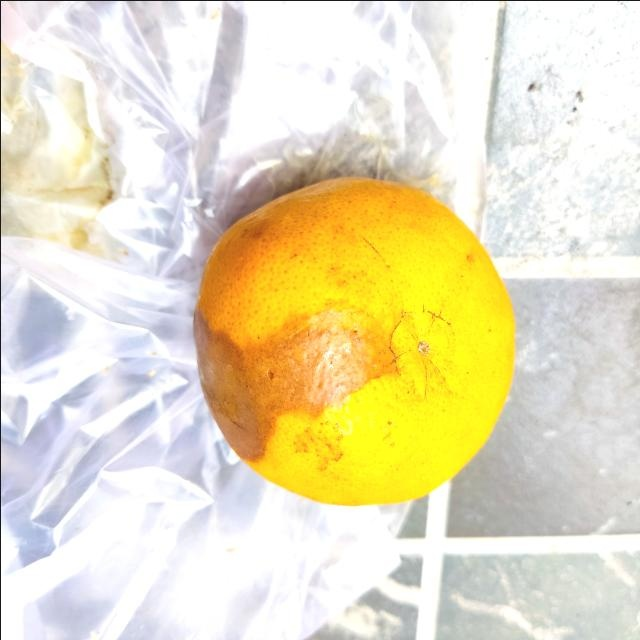agrume: (188, 170, 524, 510)
